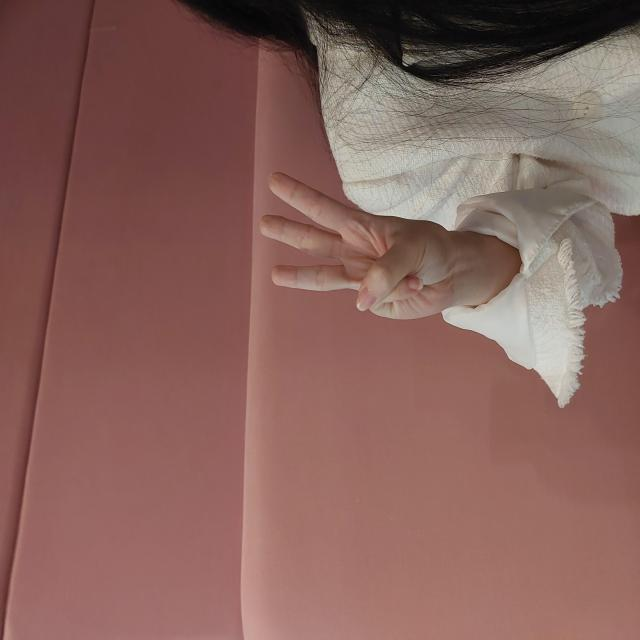W: (319, 259, 469, 449)
